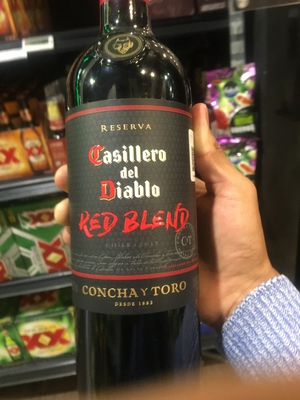casillero del diablo red blend: (57, 18, 212, 400)
